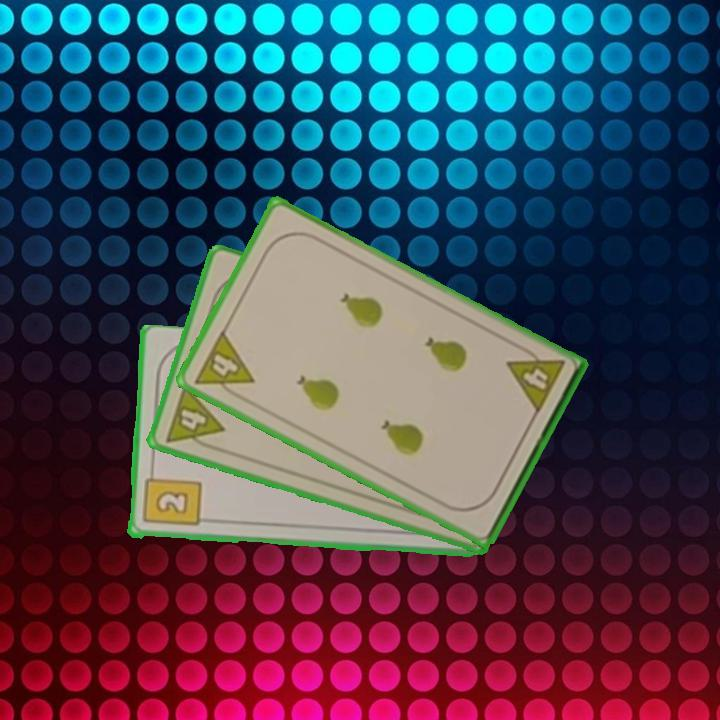2b: (139, 466, 203, 530)
4p: (190, 326, 257, 404), (503, 341, 568, 417), (162, 381, 227, 455)
